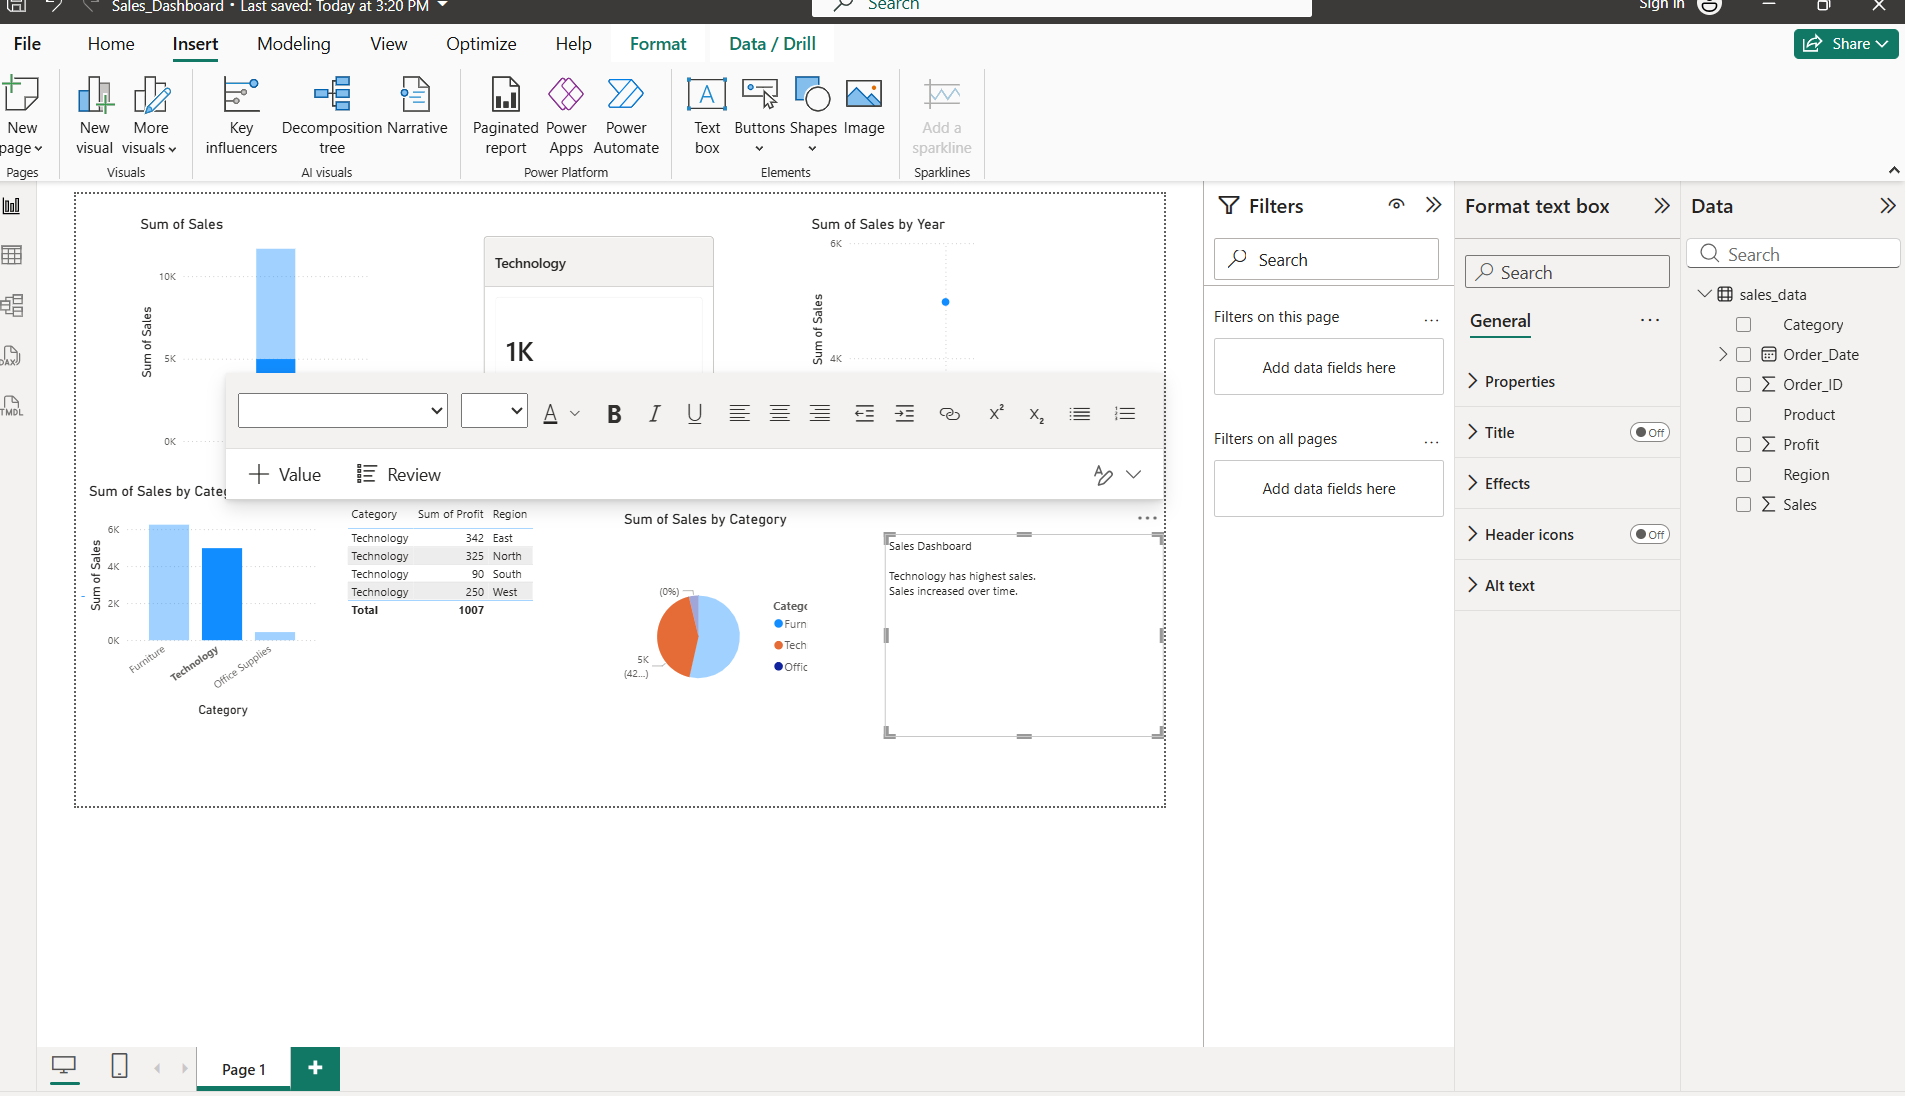

Layout of this report page (visuals, bound fields, positions):
{"tool":"powerbi","page":{"name":"Page 1","canvas":[1280,720],"ordinal":0},"visuals":[{"type":"tableEx","fields":{"Values":["sales_data.Category"]},"box":[0,440,280,280],"z":0},{"type":"clusteredColumnChart","fields":{"Y":["Sum(sales_data.Sales)"]},"box":[70.9,25.5,280,280],"z":1},{"type":"clusteredColumnChart","fields":{"Y":["Sum(sales_data.Sales)"],"Category":["sales_data.Category"]},"box":[9.9,339.5,280.2,280.2],"z":2},{"type":"tableEx","fields":{"Values":["sales_data.Category","Sum(sales_data.Profit)","sales_data.Region"]},"box":[312.7,360,280,280],"z":4},{"type":"lineChart","fields":{"Category":["sales_data.Order_Date.Variation.Date Hierarchy.Year","sales_data.Order_Date.Variation.Date Hierarchy.Quarter","sales_data.Order_Date.Variation.Date Hierarchy.Month","sales_data.Order_Date.Variation.Date Hierarchy.Day"],"Y":["Sum(sales_data.Sales)"]},"box":[860,25.5,280,280],"z":5},{"type":"pieChart","fields":{"Category":["sales_data.Category"],"Y":["Sum(sales_data.Sales)"]},"box":[639.5,371.6,261.7,279],"z":6},{"type":"cardVisual","fields":{"Rows":["sales_data.Category"],"Data":["Sum(sales_data.Profit)"]},"box":[474.5,25.5,280,280],"z":7},{"type":"textbox","box":[860,360,255,280],"z":8},{"type":"textbox","box":[1057.5,0,222.5,280],"z":9},{"type":"textbox","box":[950.9,400,329.1,240],"z":10}]}

Visuals, with their boxes on the page's 1280x720 design canvas (x1, y1, x2, y2). These are canvas units, not pixel positions in the 1905x1096 screenshot, which may show the page scaled, cropped or inside an application window:
tableEx - sales_data.Category: select_region(0, 440, 280, 720)
clusteredColumnChart - Sum(sales_data.Sales): select_region(71, 26, 351, 306)
clusteredColumnChart - Sum(sales_data.Sales) x sales_data.Category: select_region(10, 340, 290, 620)
tableEx - sales_data.Category x Sum(sales_data.Profit): select_region(313, 360, 593, 640)
lineChart - sales_data.Order_Date.Variation.Date Hierarchy.Year x sales_data.Order_Date.Variation.Date Hierarchy.Quarter: select_region(860, 26, 1140, 306)
pieChart - sales_data.Category x Sum(sales_data.Sales): select_region(640, 372, 901, 651)
cardVisual - sales_data.Category x Sum(sales_data.Profit): select_region(474, 26, 754, 306)
textbox: select_region(860, 360, 1115, 640)
textbox: select_region(1058, 0, 1280, 280)
textbox: select_region(951, 400, 1280, 640)
